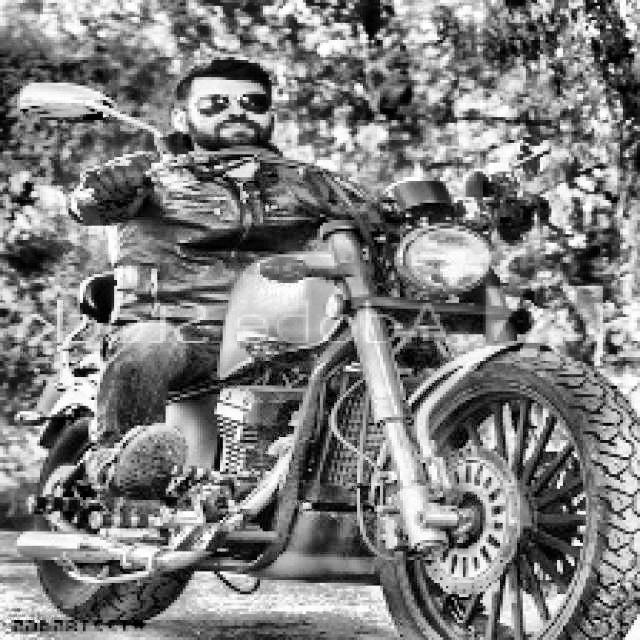motorcycle: (20, 60, 640, 640)
